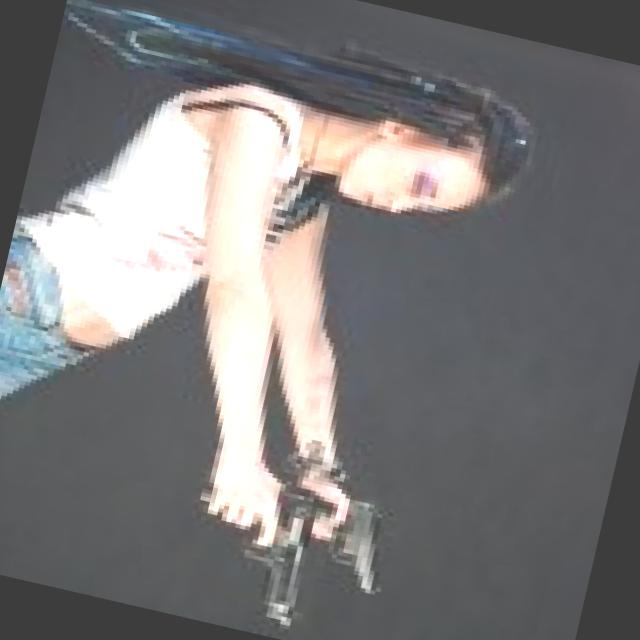handgun: (171, 464, 334, 626), (278, 464, 418, 610)
